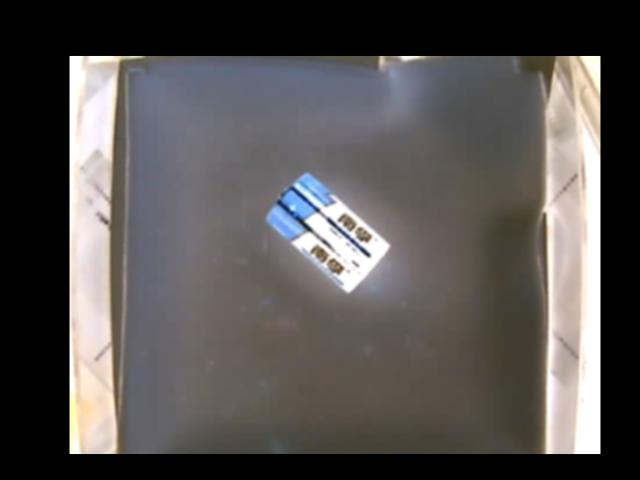Battery: (268, 172, 385, 293)
